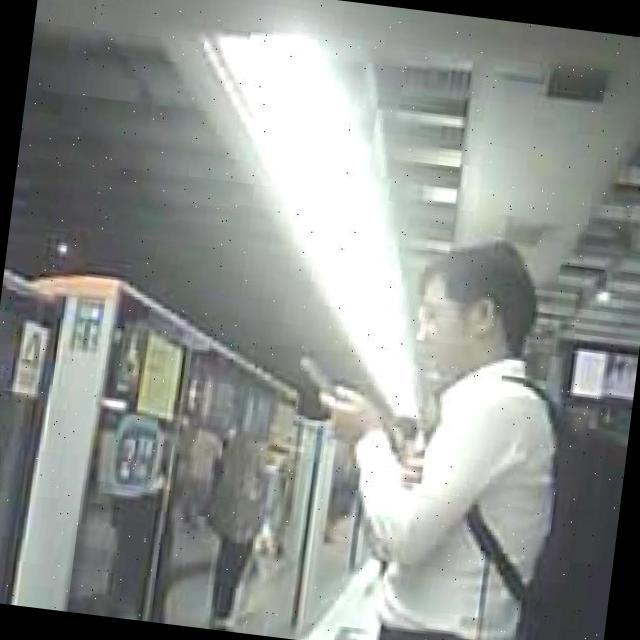person: (304, 222, 587, 640), (192, 428, 286, 635)
